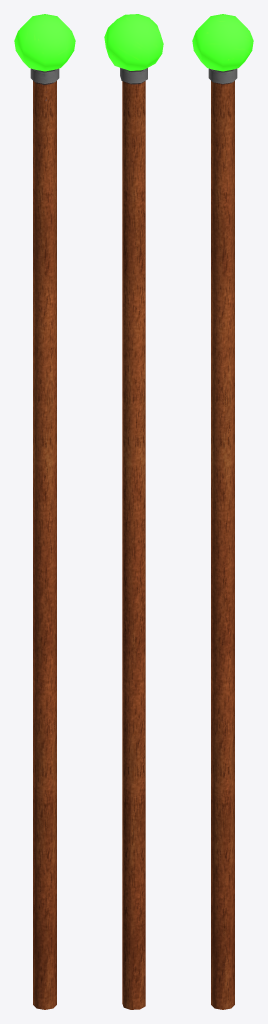
File: SM_WizardStaffProp.fbx
3 views of the same model, side by side, from view 1: azimuth 90°, elevation 25°; view 2: azimuth 210°, elevation 25°; view 3: azimuth 270°, elevation 25° (orthographic).
Parts seen in each view (by area): view 1: SM_WizardStaffProp; view 2: SM_WizardStaffProp; view 3: SM_WizardStaffProp.
Part boxes in pixels (<box>): SM_WizardStaffProp: <box>14,14,75,1009</box>; SM_WizardStaffProp: <box>104,14,163,1009</box>; SM_WizardStaffProp: <box>192,14,253,1009</box>.
Size of the model in its own units: 11.09 by 197 by 11.09.
